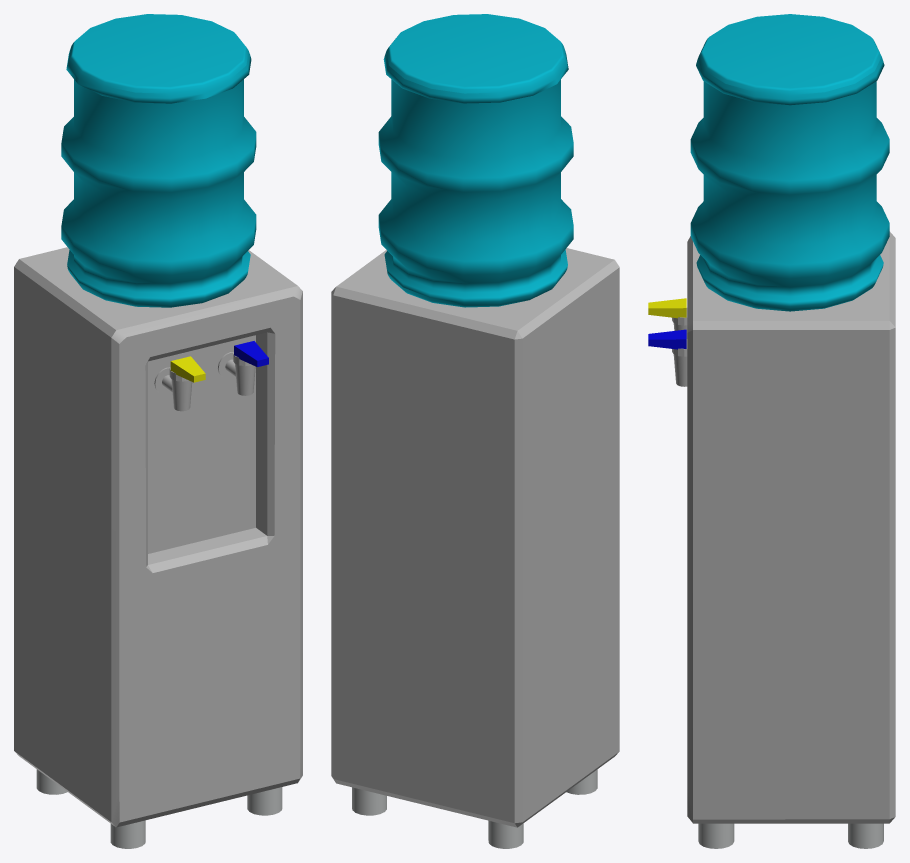
The model's file is office_water_cooler.fbx.
3 views of the same model, side by side, from view 1: azimuth 30°, elevation 25°; view 2: azimuth 150°, elevation 25°; view 3: azimuth 270°, elevation 25° (orthographic).
Parts seen in each view (by area): view 1: watercooler, waterjug, tap (×2), feet1, feet, tapleft, tapright; view 2: watercooler, waterjug, feet2, feet3; view 3: watercooler, waterjug, tap (×2), feet, feet3, tapright.
Part boxes in pixels (left/top/right/bottom): watercooler: left=14, top=247, right=302, bottom=827; waterjug: left=61, top=14, right=256, bottom=307; tap (×2): left=170, top=341, right=268, bottom=382; feet1: left=110, top=820, right=145, bottom=848; feet: left=247, top=787, right=282, bottom=815; tapleft: left=169, top=368, right=192, bottom=411; tapright: left=233, top=353, right=255, bottom=395; watercooler: left=331, top=248, right=619, bottom=827; waterjug: left=378, top=14, right=573, bottom=307; feet2: left=488, top=820, right=523, bottom=848; feet3: left=352, top=787, right=386, bottom=815; watercooler: left=687, top=231, right=895, bottom=823; waterjug: left=690, top=14, right=889, bottom=311; tap (×2): left=648, top=298, right=686, bottom=349; feet: left=698, top=823, right=734, bottom=848; feet3: left=848, top=823, right=883, bottom=848; tapright: left=672, top=339, right=687, bottom=386.
Size of the model in its own units: 58.07 by 217 by 64.24.
Materials: 4 (1 with a texture image).
